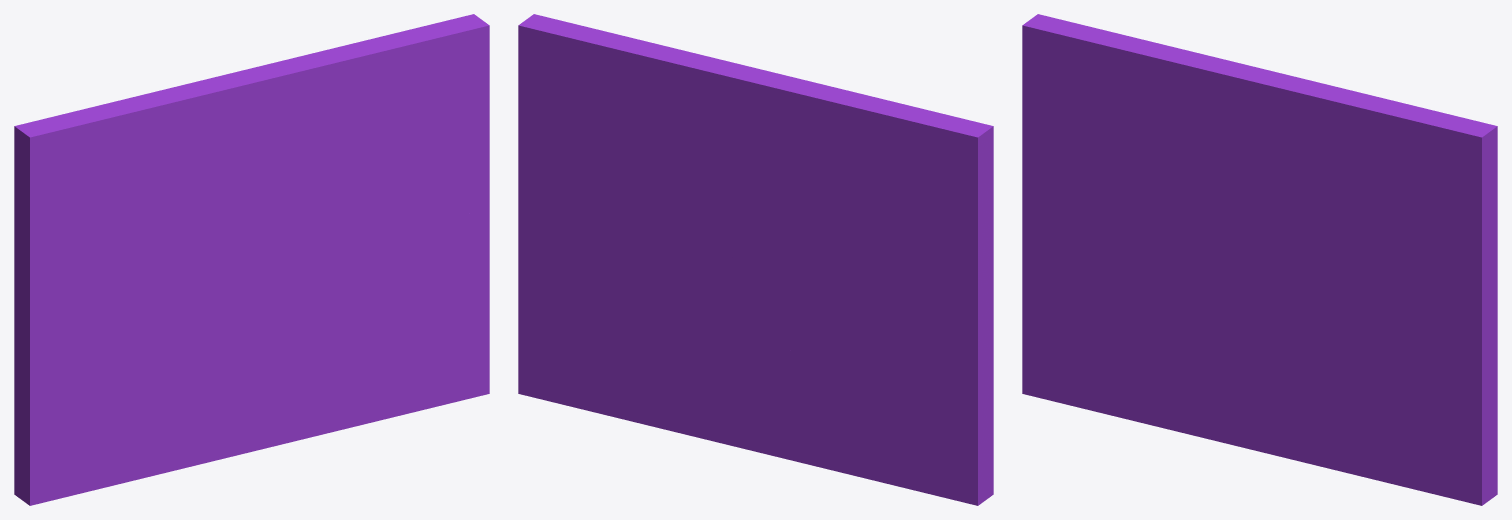
Rendered from Barrier_160_chunks.fbx.
The picture shows the model from 3 angles, left to right: view 1: azimuth 30°, elevation 25°; view 2: azimuth 150°, elevation 25°; view 3: azimuth 330°, elevation 25°; orthographic projection.
Parts seen in each view (by area): view 1: Barrier_160_2, Barrier_160_3, Barrier_160_1, Barrier_160_0; view 2: Barrier_160_2, Barrier_160_3, Barrier_160_1, Barrier_160_0; view 3: Barrier_160_2, Barrier_160_3, Barrier_160_1, Barrier_160_0.
Part boxes in pixels (x1,y1,x2,y2): Barrier_160_2: [14, 110, 264, 505]; Barrier_160_3: [133, 14, 489, 267]; Barrier_160_1: [180, 208, 489, 469]; Barrier_160_0: [28, 93, 150, 122]; Barrier_160_2: [771, 100, 993, 505]; Barrier_160_3: [518, 14, 886, 257]; Barrier_160_1: [518, 201, 841, 472]; Barrier_160_0: [732, 102, 965, 305]; Barrier_160_2: [1022, 14, 1257, 430]; Barrier_160_3: [1128, 47, 1497, 319]; Barrier_160_1: [1173, 270, 1497, 505]; Barrier_160_0: [1052, 17, 1173, 49].
Size of the model in its own units: 376 by 288 by 22.1.
